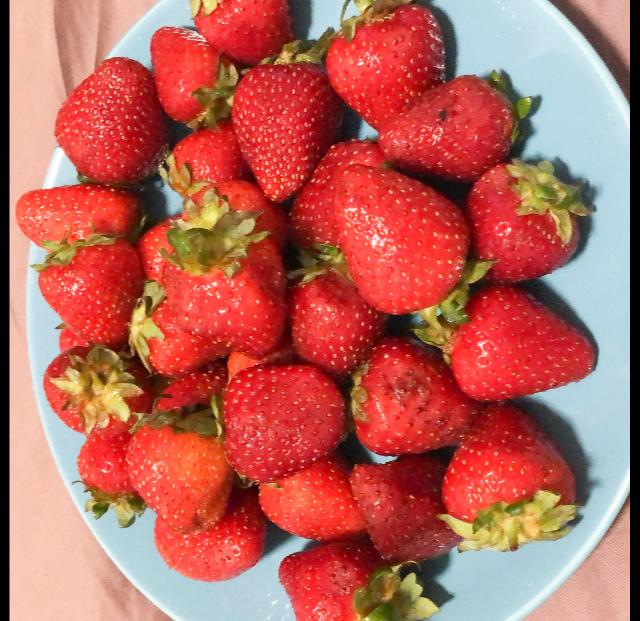Strawberries: (336, 164, 473, 314), (442, 406, 580, 540), (442, 287, 600, 402), (323, 7, 452, 130), (218, 365, 344, 482), (173, 231, 288, 358), (52, 54, 166, 180), (350, 340, 476, 452), (232, 61, 330, 200), (378, 79, 516, 172), (469, 166, 584, 277), (127, 412, 232, 532), (38, 238, 138, 346), (278, 542, 413, 621), (152, 502, 272, 584), (348, 464, 452, 554), (44, 352, 146, 437), (291, 270, 374, 371), (17, 184, 146, 248), (148, 27, 233, 122), (256, 468, 362, 540), (74, 405, 139, 512), (189, 0, 297, 58), (167, 124, 240, 202)
